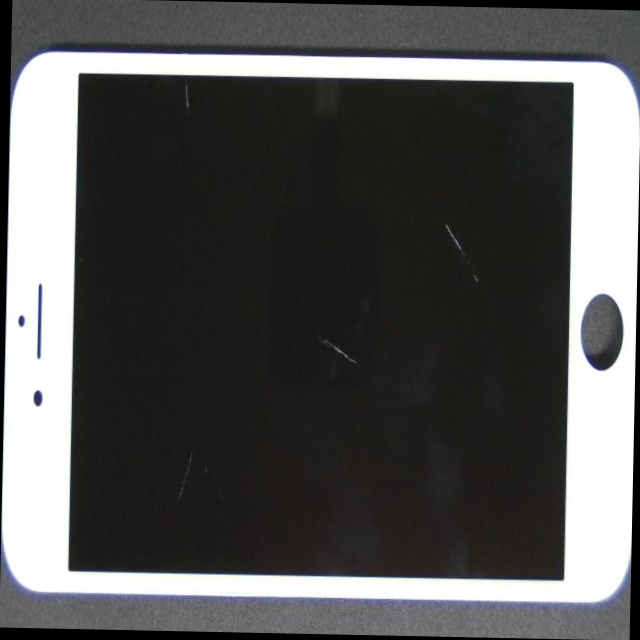scratch: (211, 191, 524, 511), (271, 189, 639, 385), (90, 91, 288, 187)
